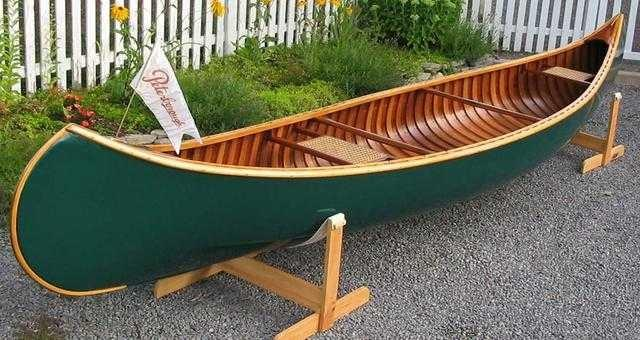kayak: (5, 28, 623, 299)
